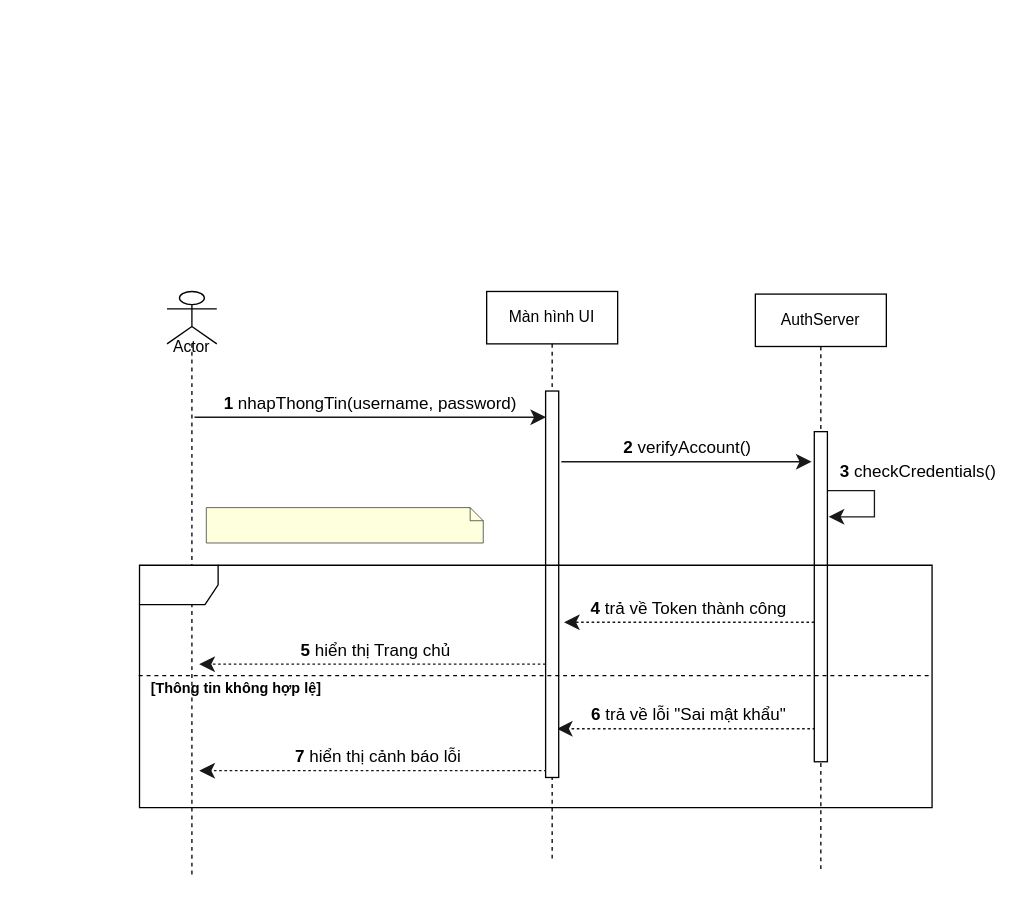
The diagram is 1036 pixels wide and 897 high, and some of its shapes have lost their labels. Each missing label, with the centre of its shape:
alt: the point at 535,686
Xử lý nội bộ kiểm tra thông tin: the point at 344,525
